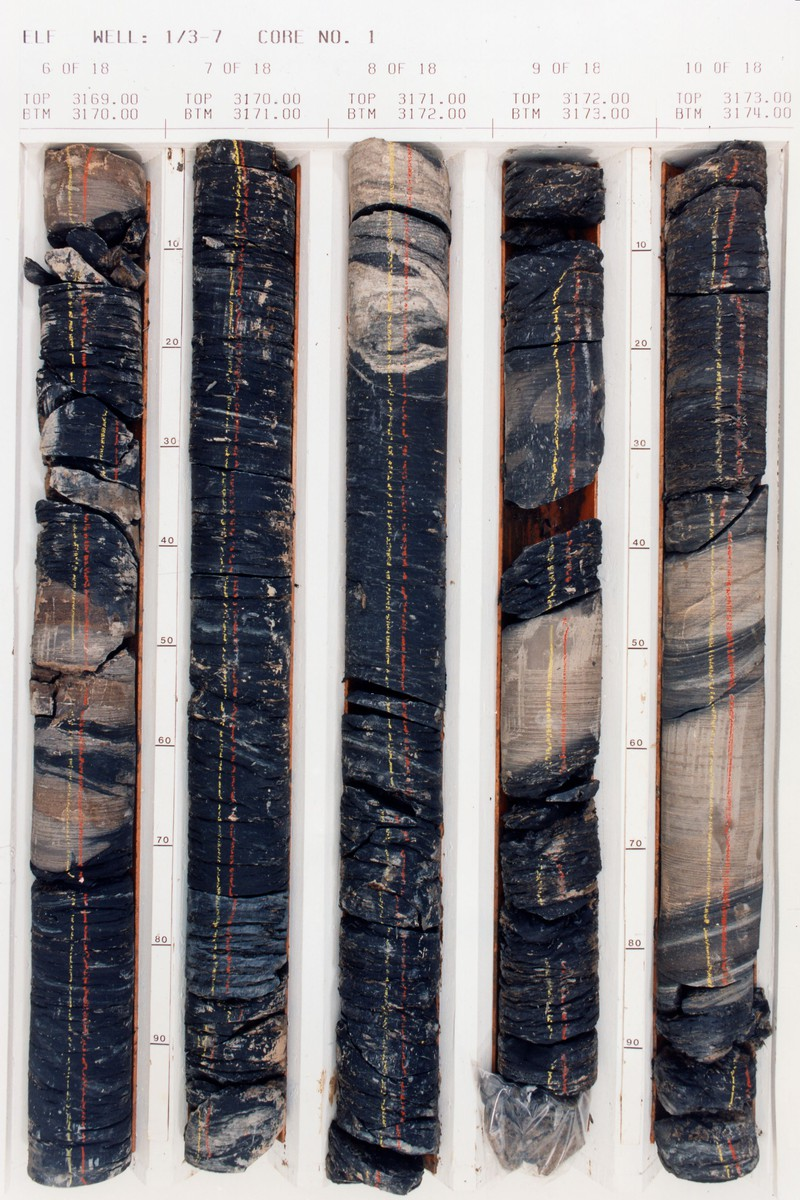core: (328, 138, 446, 1195), (26, 147, 144, 1192), (654, 143, 768, 1183), (186, 140, 297, 1174), (493, 156, 604, 1174)
